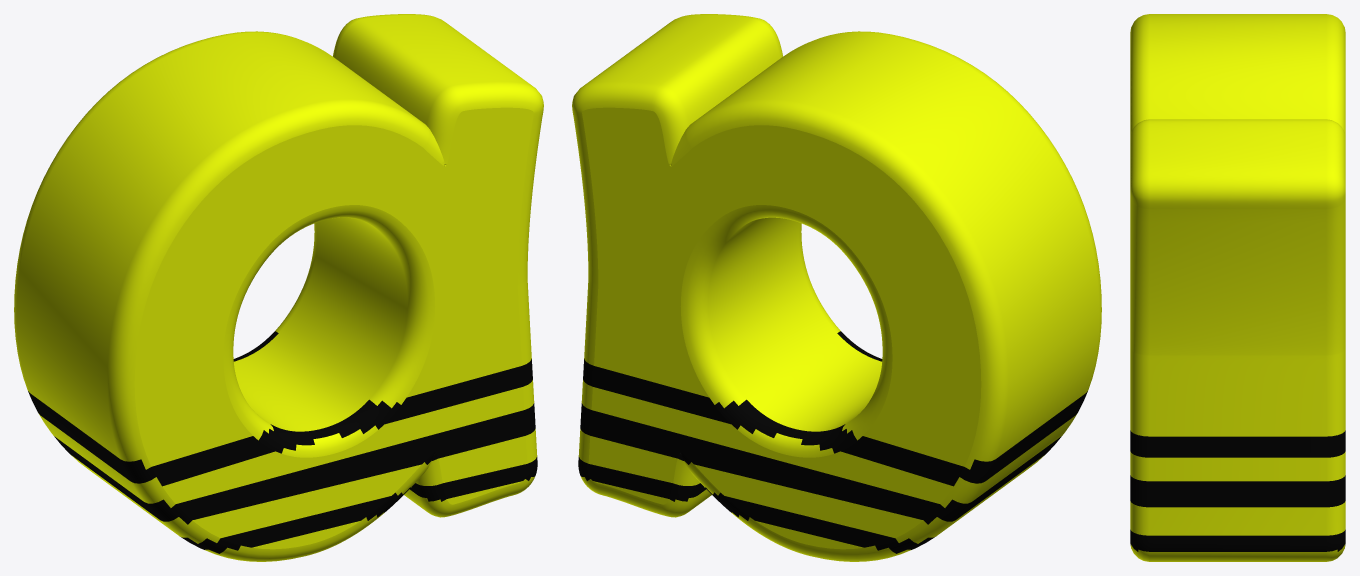
Rendered from killer_ bee.fbx.
The picture shows the model from 3 angles, left to right: view 1: azimuth 30°, elevation 25°; view 2: azimuth 150°, elevation 25°; view 3: azimuth 270°, elevation 25°; orthographic projection. The views are drawn at different scales.
Visible parts, largest first — view 1: Text; view 2: Text; view 3: Text.
Boxes of the visible parts, left/top/right/bottom form: Text: left=14, top=14, right=543, bottom=561; Text: left=572, top=14, right=1101, bottom=561; Text: left=1130, top=14, right=1345, bottom=561.
Bounding box in the file's own units: 49.81 × 49.23 × 22.
